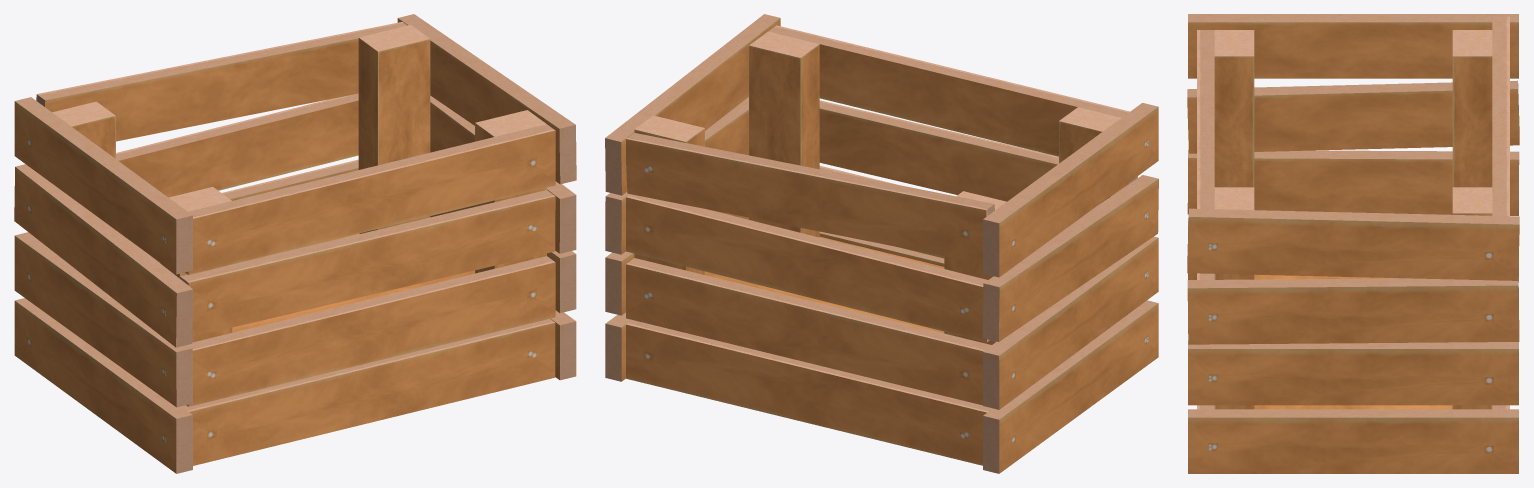
The model's file is Container_4.fbx.
3 views of the same model, side by side, from view 1: azimuth 30°, elevation 25°; view 2: azimuth 150°, elevation 25°; view 3: azimuth 270°, elevation 25° (orthographic). The views are drawn at different scales.
Visible parts, largest first — view 1: Container_4; view 2: Container_4; view 3: Container_4.
Part boxes in pixels (x1,y1,x2,y2): Container_4: (14, 14, 576, 473); Container_4: (605, 14, 1158, 473); Container_4: (1187, 14, 1519, 473).
Bounding box in the file's own units: 0.7368 × 0.459 × 0.5189.
